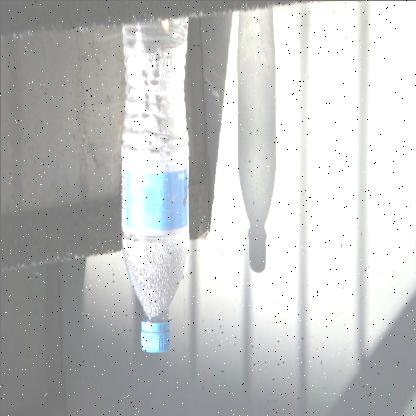Plastic Bottle: (121, 16, 188, 352)
